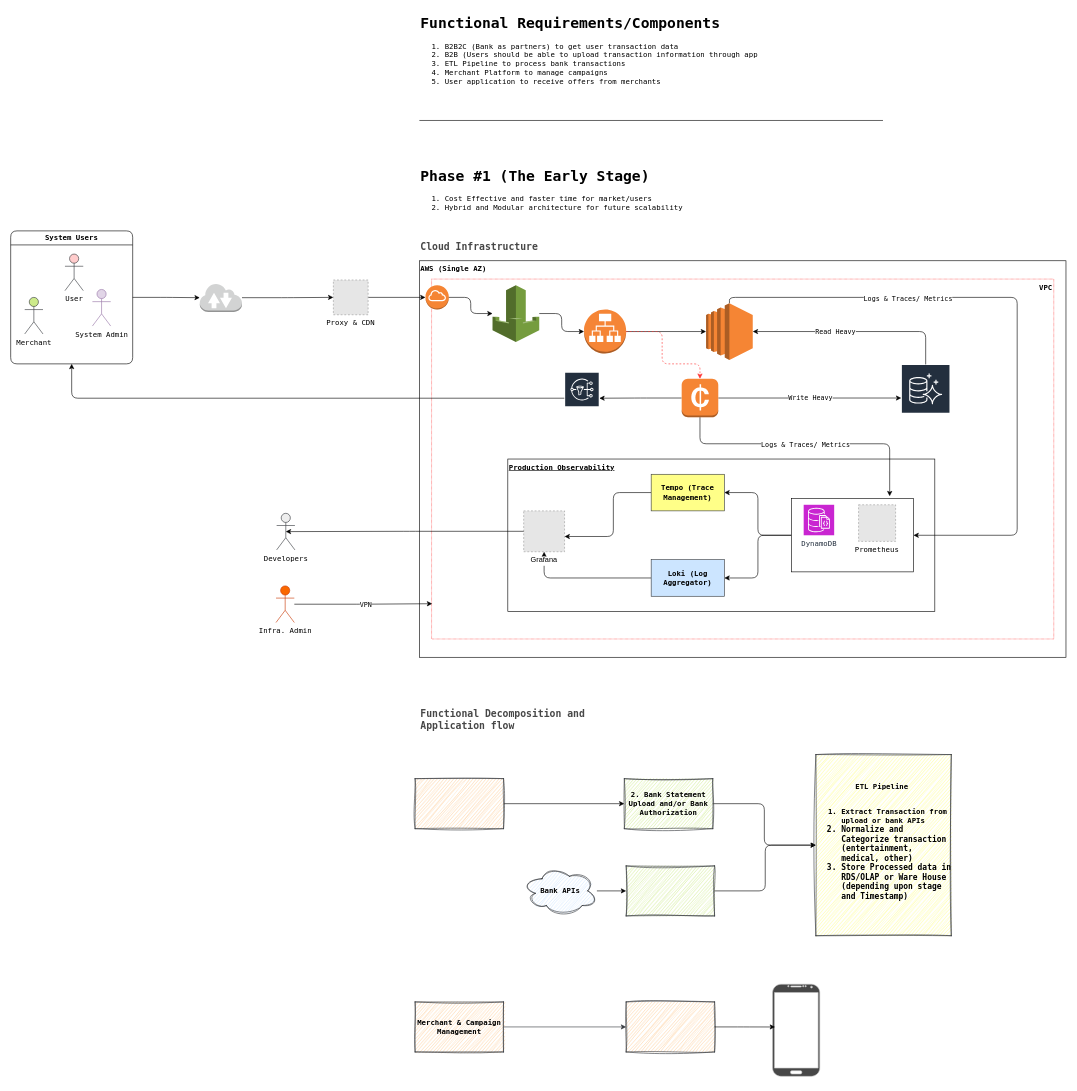
Some shapes in this 1077 by 1091 pixel diagram are drawn without their labels. Grey dashed boxes stand in for pictures. Each missing label, with the centre of its shape:
"1. Users & Profile Management" belongs at (459,803).
"2. Fetch Bank Transactions via Bank APIs" belongs at (670,890).
"ALB" belongs at (604,331).
"Amazon Aurora" belongs at (925,398).
"Amazon SNS" belongs at (581,397).
"EC2 Node #1" belongs at (729,331).
"Net Gateway" belongs at (437,297).
"Spot Instance #1" belongs at (699,397).
"Targeting Rules & Coupon Distribution" belongs at (670,1026).
"WAF" belongs at (515,313).
